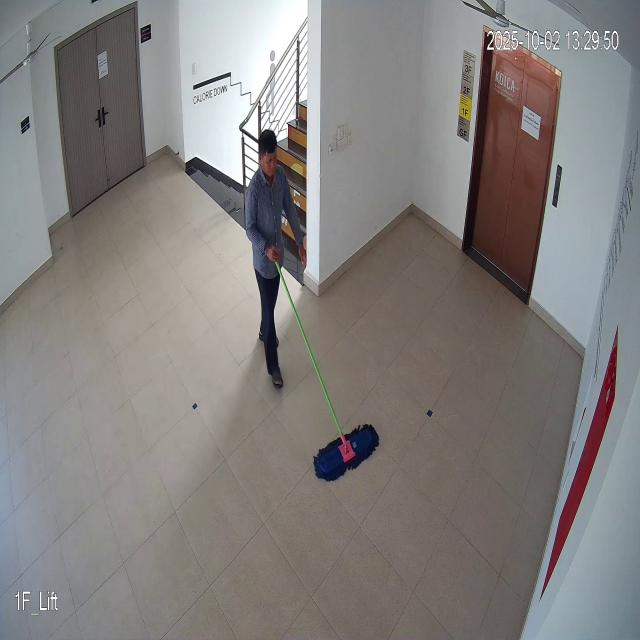face: (258, 127, 278, 185)
